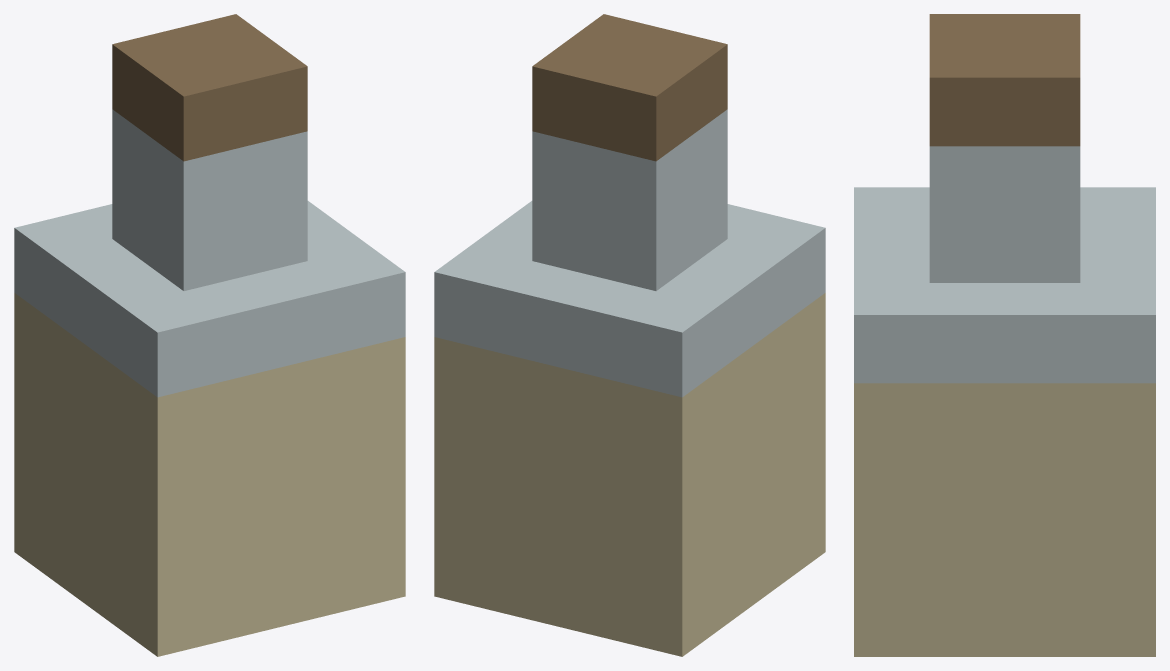
The model's file is pocion_alquimica_clara_01.glb.
3 views of the same model, side by side, from view 1: azimuth 30°, elevation 25°; view 2: azimuth 150°, elevation 25°; view 3: azimuth 270°, elevation 25° (orthographic). The views are drawn at different scales.
Visible parts, largest first — view 1: pocion_alquimica_clara; view 2: pocion_alquimica_clara; view 3: pocion_alquimica_clara.
Part boxes in pixels (box(x1,y1,x2,y2)): pocion_alquimica_clara: box(14, 14, 405, 656); pocion_alquimica_clara: box(434, 14, 825, 656); pocion_alquimica_clara: box(854, 14, 1155, 656).
Bounding box in the file's own units: 0.3333 × 0.6667 × 0.3333.
